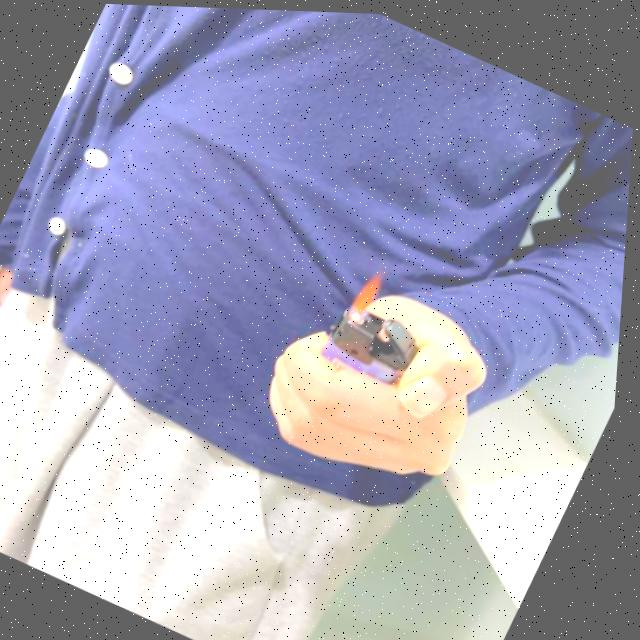Fire: (347, 262, 391, 323)
